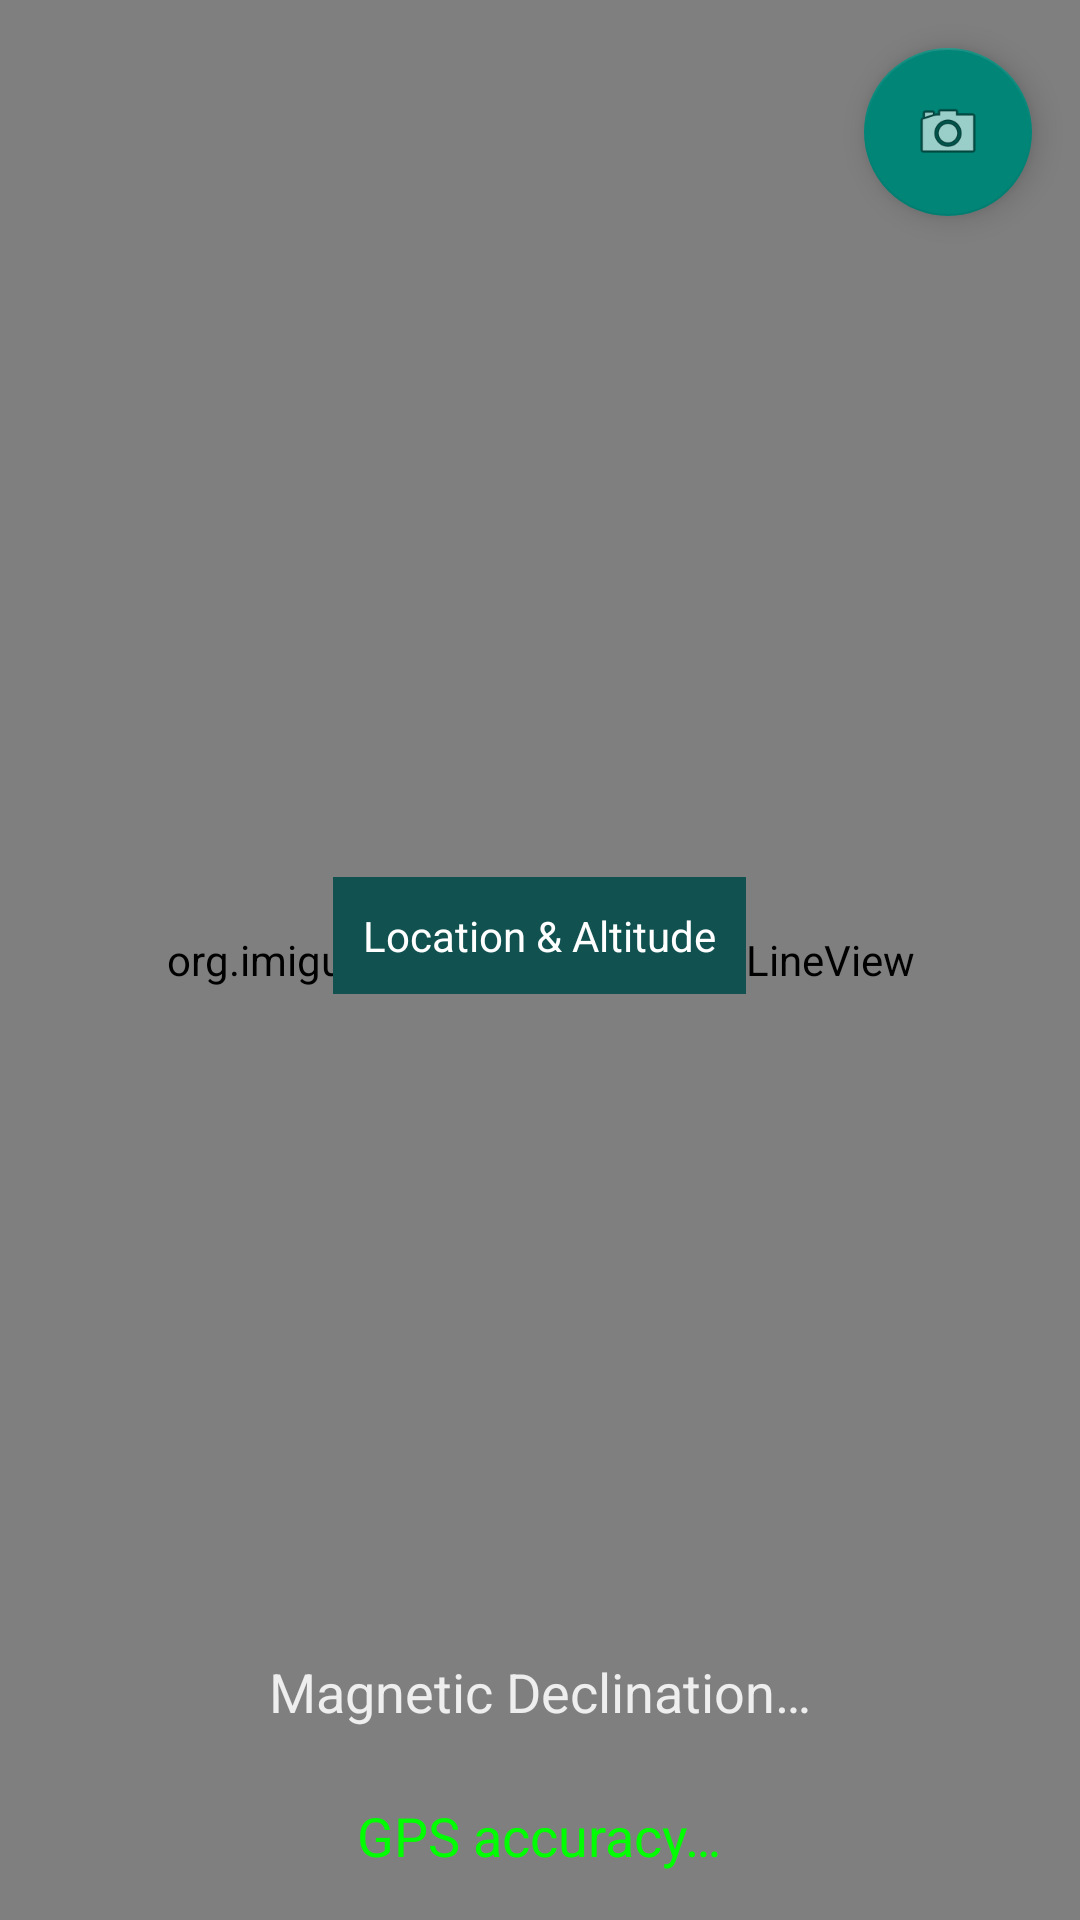

Named icons in this screenshot (1080×1920) and their bounding boxes, (left=x1, top=y1, right=x2, bottom=y2):
camera: (left=864, top=48, right=1032, bottom=216)
